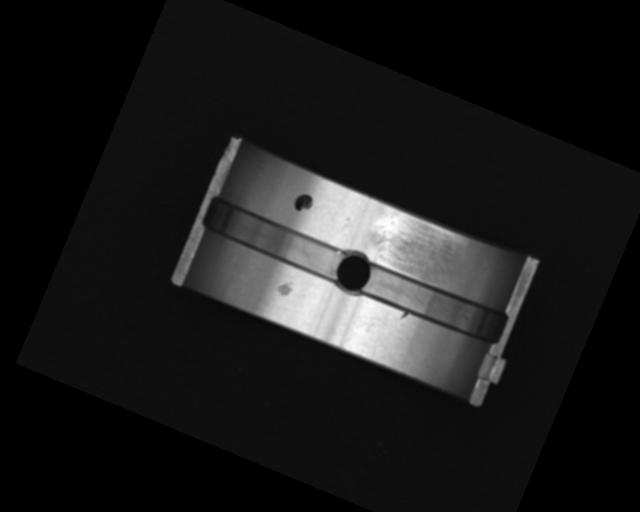blot: (291, 188, 316, 215)
bruise: (273, 277, 296, 300), (399, 309, 409, 322)
gap: (356, 257, 510, 351), (199, 193, 349, 284)
hole: (328, 245, 377, 299)
scratch: (358, 202, 467, 289)
